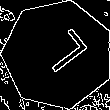L_SW: (28, 27, 88, 82)
